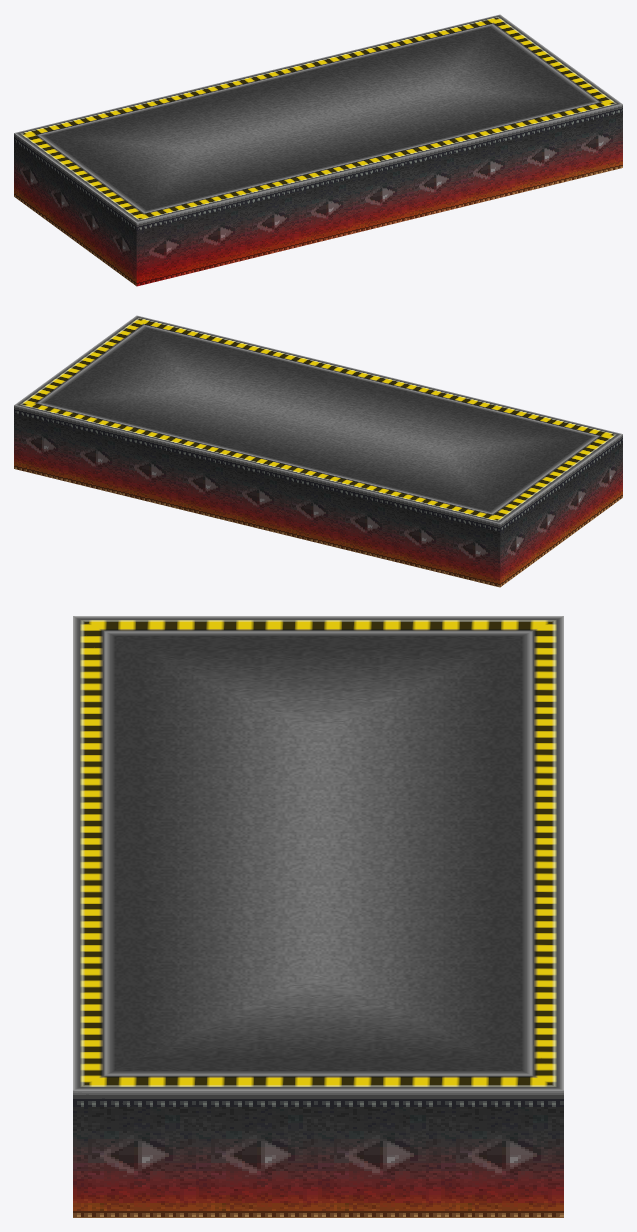
The model's file is koopa_course-koopa_block.glb.
3 views of the same model, one above another, from view 1: azimuth 30°, elevation 25°; view 2: azimuth 150°, elevation 25°; view 3: azimuth 270°, elevation 25° (orthographic). The views are drawn at different scales.
Visible parts, largest first — view 1: koopa_block; view 2: koopa_block; view 3: koopa_block.
Boxes of the visible parts, left/top/right/bottom form: koopa_block: left=14, top=14, right=622, bottom=286; koopa_block: left=14, top=315, right=622, bottom=587; koopa_block: left=73, top=616, right=563, bottom=1217.
Bounding box in the file's own units: 50 × 6.25 × 21.88.
2 materials, 2 textured.
